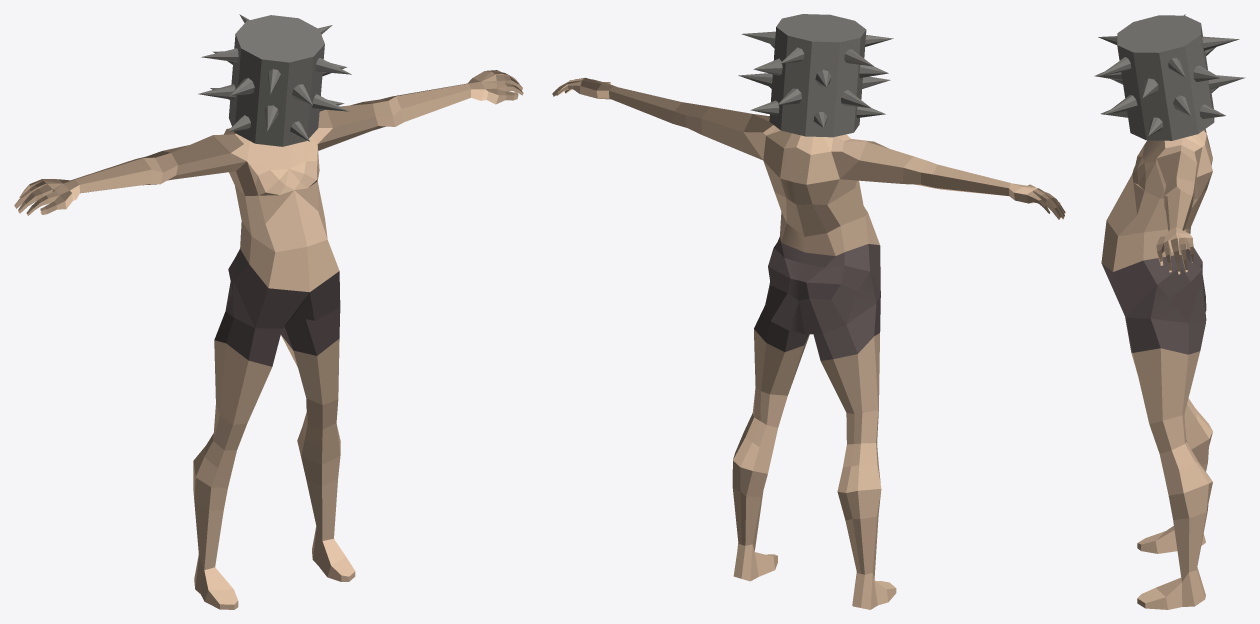
File: BOSS (2).fbx
3 views of the same model, side by side, from view 1: azimuth 30°, elevation 25°; view 2: azimuth 150°, elevation 25°; view 3: azimuth 270°, elevation 25° (orthographic). The views are drawn at different scales.
Parts seen in each view (by area): view 1: Thyra1Head1; view 2: Thyra1Head1; view 3: Thyra1Head1.
Boxes of the visible parts, box(x1,y1,x2,y2) form: Thyra1Head1: box(14, 14, 523, 609); Thyra1Head1: box(552, 14, 1065, 609); Thyra1Head1: box(1094, 14, 1245, 609).
Size of the model in its own units: 17.99 by 18.9 by 4.75.
